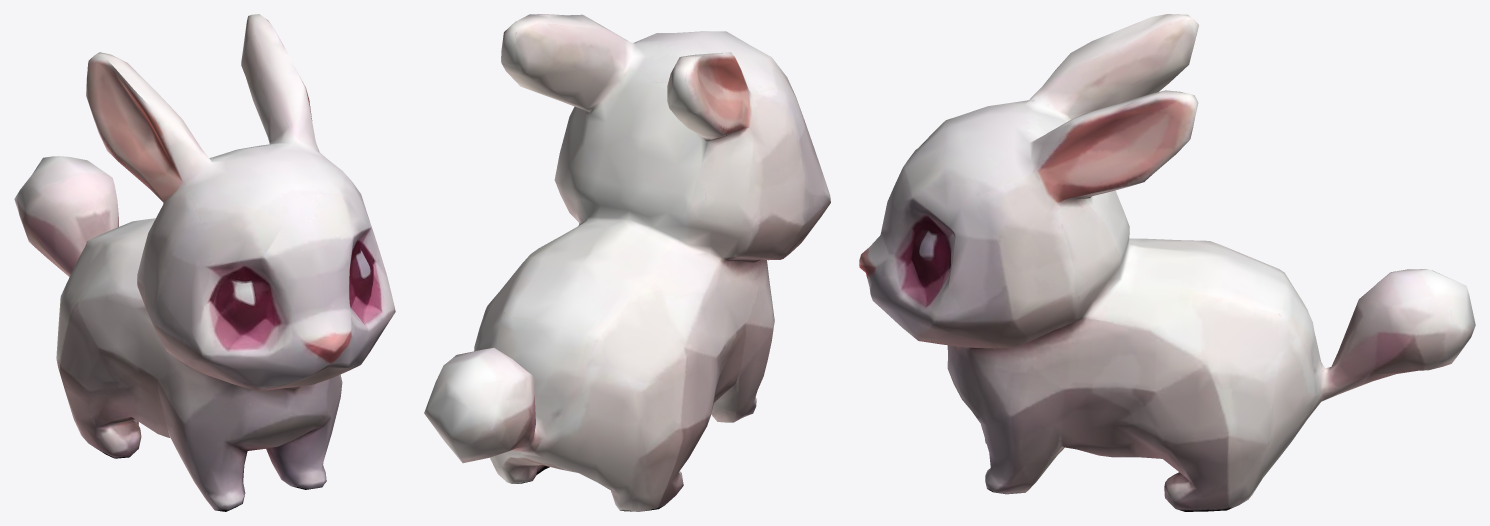
The model's file is baby_bunny.glb.
3 views of the same model, side by side, from view 1: azimuth 30°, elevation 25°; view 2: azimuth 150°, elevation 25°; view 3: azimuth 270°, elevation 25° (orthographic). The views are drawn at different scales.
Visible parts, largest first — view 1: LowPolyBunny; view 2: LowPolyBunny; view 3: LowPolyBunny.
Part boxes in pixels (box(x1,y1,x2,y2)): LowPolyBunny: box(14, 14, 395, 511); LowPolyBunny: box(424, 14, 830, 511); LowPolyBunny: box(859, 14, 1475, 511).
Bounding box in the file's own units: 0.0506 × 0.0905 × 0.12.
1 material, 1 textured.
